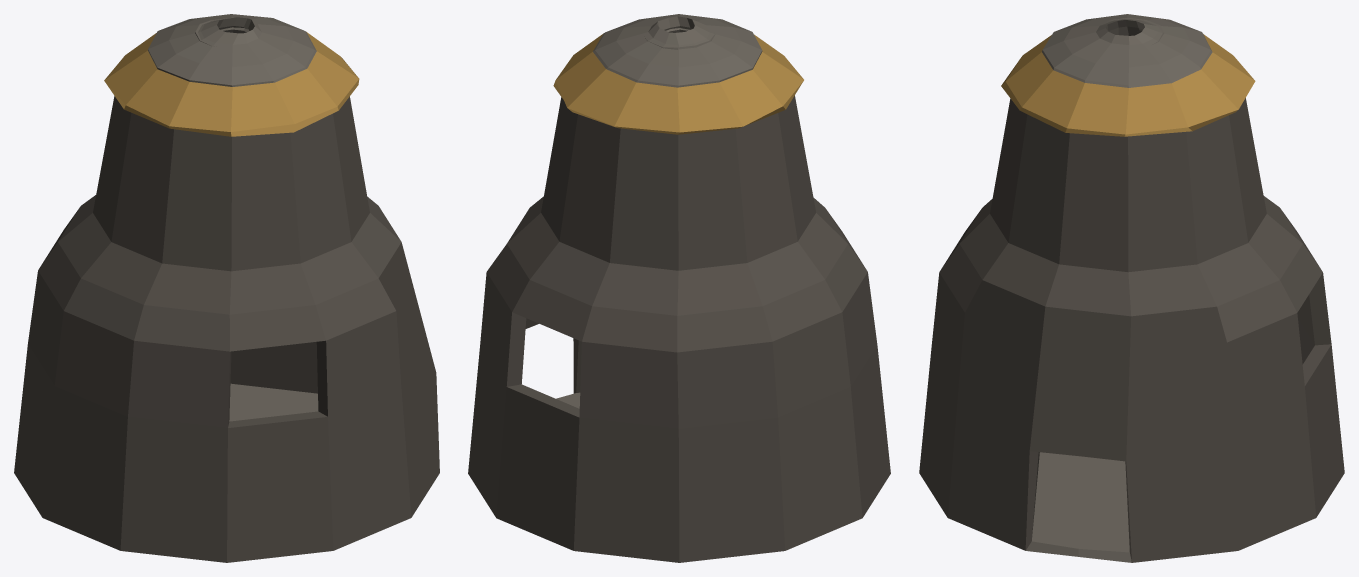
The model's file is forest_people_house_03.fbx.
The picture shows the model from 3 angles, left to right: view 1: azimuth 30°, elevation 25°; view 2: azimuth 150°, elevation 25°; view 3: azimuth 270°, elevation 25°; orthographic projection.
Visible parts, largest first — view 1: Cylinder; view 2: Cylinder; view 3: Cylinder.
Boxes of the visible parts, <box> form: Cylinder: <box>14,14,439,562</box>; Cylinder: <box>468,14,890,562</box>; Cylinder: <box>919,14,1344,562</box>.
Size of the model in its own units: 382 by 444 by 382.
